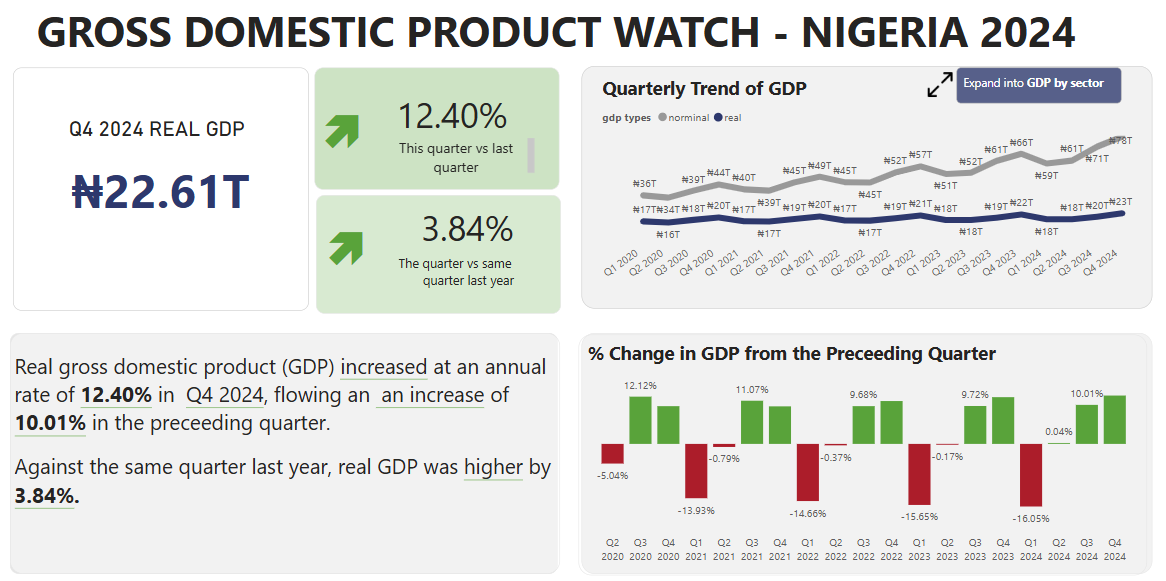

The dashboard page shown, as its layout file describes it:
{"tool":"powerbi","page":{"name":"Page 1","canvas":[1366,768],"ordinal":0},"visuals":[{"type":"textbox","title":"Background","box":[24.7,156.2,630.9,279.5],"z":0},{"type":"card","fields":{"Values":["measures_.cureen real gdp"]},"box":[27.6,156.5,340.4,279.7],"z":0,"group":"g1"},{"type":"textbox","title":"QoQ background","box":[375.1,156.6,281.9,140.9],"z":0,"group":"g3"},{"type":"image","title":"expand text","box":[1062.3,157.3,66.3,39.3],"z":0,"group":"g4"},{"type":"textbox","title":"Yoy background","box":[376.2,303.9,281.9,136.6],"z":0,"group":"g2"},{"type":"card","fields":{"Values":["measures_.current quarter text"]},"box":[50.2,112,286.2,229.8],"z":1000,"group":"g1"},{"type":"textbox","title":"background line","box":[682.3,156.2,657.7,279.5],"z":1000},{"type":"textbox","box":[1113.9,156.6,190,41.5],"z":1000,"group":"g4"},{"type":"card","title":"qoq text","fields":{"Values":["measures_.% QoQ"]},"box":[366.4,166.9,333.9,86.3],"z":1000,"group":"g3"},{"type":"card","title":"yoy text","fields":{"Values":["measures_.% YoY"]},"box":[419.5,268.9,261.4,141.8],"z":1000,"group":"g2"},{"type":"textbox","box":[28.3,75.5,1015.1,75.5],"z":2000},{"type":"card","title":"qoq indicator","fields":{"Values":["measures_.QoQ indicator"]},"box":[341.5,160.4,127.9,134.4],"z":2000,"group":"g3"},{"type":"card","title":"yoy indicator","fields":{"Values":["measures_.YoY indicator"]},"box":[353.6,303.9,112.7,114.9],"z":2000,"group":"g2"},{"type":"textbox","title":"qoq Text box","box":[451,232.7,182.1,51.4],"z":3000,"group":"g3"},{"type":"textbox","title":"yoy Text box","box":[465.6,365.5,171.3,61.7],"z":3000,"group":"g2"},{"type":"textbox","box":[24.7,462.4,630.9,277.5],"z":3000},{"type":"group","id":"g1","title":"Group 1","box":[27.6,112,340.4,324.3],"z":4000},{"type":"lineChart","title":"Quarterly Trend of GDP","fields":{"Y":["measures_.gdp"],"Category":["date table.Quarter Year"],"Series":["gdp.GDP_TYPES"]},"box":[700.8,166.5,620.7,254.8],"z":6000},{"type":"group","id":"g2","title":"yoy","box":[353.6,268.9,327.3,171.6],"z":7000},{"type":"group","id":"g3","title":"qoq","box":[341.5,156.6,358.8,140.9],"z":8000},{"type":"textbox","box":[682.3,462.4,657.7,277.5],"z":8500},{"type":"clusteredColumnChart","title":"% Change in GDP from the Preceeding Quarter","fields":{"Category":["date table.Quarter Year"],"Y":["measures_.% QoQ"]},"box":[679.2,464.2,654.7,277.4],"z":9000},{"type":"textbox","box":[24.7,462.4,633,277.5],"z":10000},{"type":"textbox","box":[24.5,479.2,630.2,262.3],"z":11000},{"type":"group","id":"g4","title":"expand","box":[1062.3,156.6,241.5,39.6],"z":12000},{"type":"group","id":"g5","title":"Group 2","box":[680.5,126.1,685.7,642.5],"z":14001}]}

Visuals, with their boxes on the page's 1366x768 design canvas (x1, y1, x2, y2). These are canvas units, not pixel positions in the 1166x581 screenshot, which may show the page scaled, cropped or inside an application window:
"Background" textbox: locate(25, 156, 656, 436)
card - measures_.cureen real gdp: locate(28, 156, 368, 436)
"QoQ background" textbox: locate(375, 157, 657, 298)
"expand text" image: locate(1062, 157, 1129, 197)
"Yoy background" textbox: locate(376, 304, 658, 440)
card - measures_.current quarter text: locate(50, 112, 336, 342)
"background line" textbox: locate(682, 156, 1340, 436)
textbox: locate(1114, 157, 1304, 198)
"qoq text" card: locate(366, 167, 700, 253)
"yoy text" card: locate(420, 269, 681, 411)
textbox: locate(28, 76, 1043, 151)
"qoq indicator" card: locate(342, 160, 469, 295)
"yoy indicator" card: locate(354, 304, 466, 419)
"qoq Text box" textbox: locate(451, 233, 633, 284)
"yoy Text box" textbox: locate(466, 366, 637, 427)
textbox: locate(25, 462, 656, 740)
"Group 1" group: locate(28, 112, 368, 436)
"Quarterly Trend of GDP" lineChart: locate(701, 166, 1322, 421)
"yoy" group: locate(354, 269, 681, 440)
"qoq" group: locate(342, 157, 700, 298)
textbox: locate(682, 462, 1340, 740)
"% Change in GDP from the Preceeding Quarter" clusteredColumnChart: locate(679, 464, 1334, 742)
textbox: locate(25, 462, 658, 740)
textbox: locate(24, 479, 655, 742)
"expand" group: locate(1062, 157, 1304, 196)
"Group 2" group: locate(680, 126, 1366, 769)
